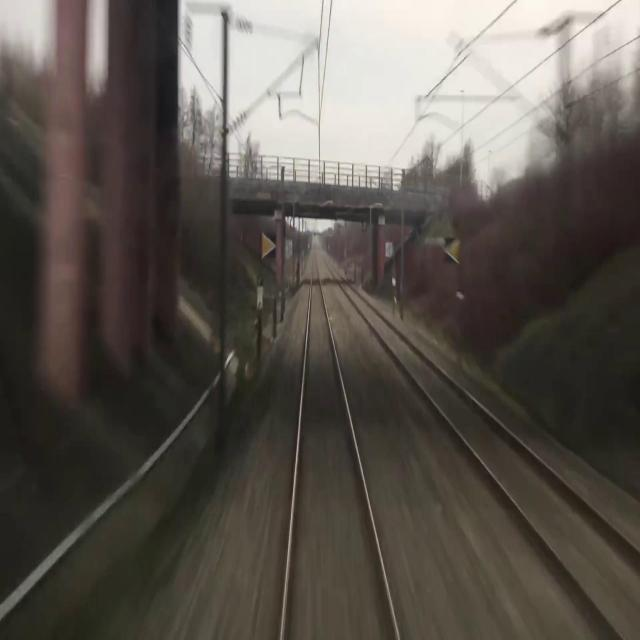rail-track: (283, 248, 396, 639)
